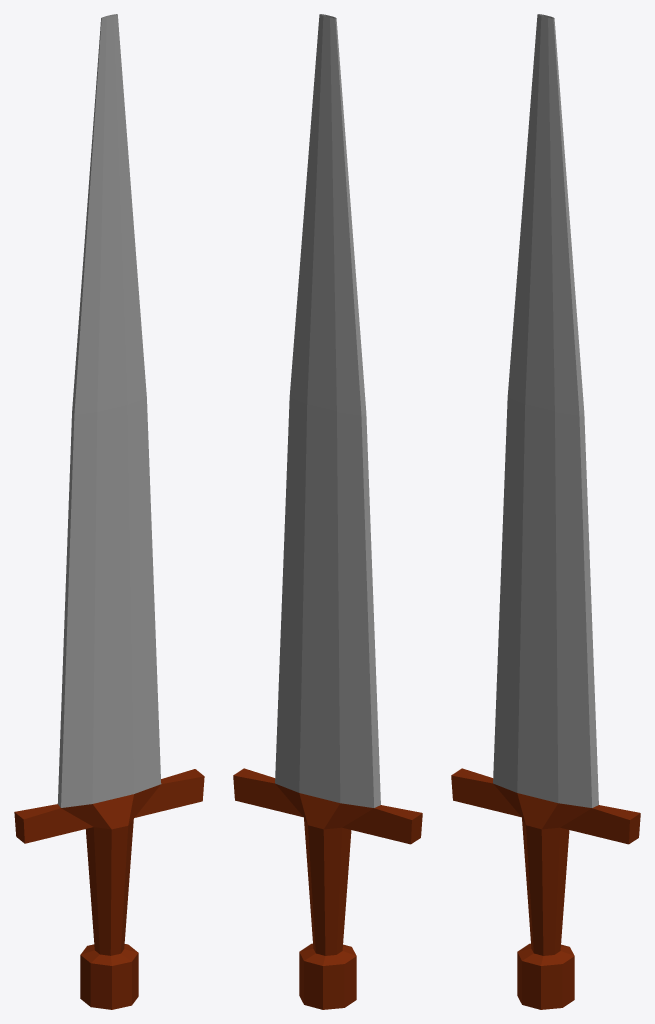
Rendered from Espada.fbx.
3 views of the same model, side by side, from view 1: azimuth 30°, elevation 25°; view 2: azimuth 150°, elevation 25°; view 3: azimuth 330°, elevation 25° (orthographic).
Parts seen in each view (by area): view 1: Espada; view 2: Espada; view 3: Espada.
Part boxes in pixels (<box>): Espada: <box>14,14,204,1009</box>; Espada: <box>233,14,422,1009</box>; Espada: <box>451,14,640,1009</box>.
Size of the model in its own units: 15.19 by 78.86 by 3.99.
